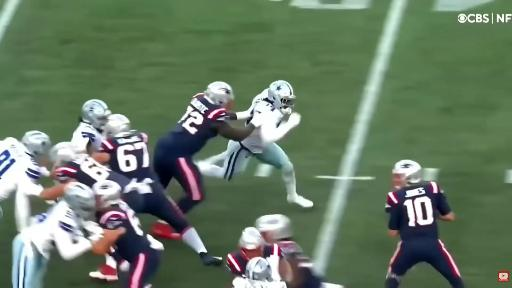Helmet: (63, 182, 95, 219), (255, 215, 292, 239), (82, 100, 111, 129), (393, 160, 421, 188), (268, 80, 295, 109), (93, 180, 121, 207), (22, 131, 51, 155), (50, 142, 79, 165), (205, 82, 234, 105), (246, 257, 273, 281), (239, 227, 264, 250), (104, 114, 131, 135)
Jersey: (55, 155, 143, 211), (159, 94, 229, 157), (387, 182, 450, 241), (22, 200, 82, 258), (96, 202, 152, 263), (102, 131, 155, 182), (0, 138, 42, 200), (56, 155, 130, 188), (278, 241, 322, 287), (246, 89, 284, 126), (71, 122, 103, 151), (234, 275, 290, 287), (227, 251, 249, 275)
Player: (93, 115, 222, 265), (198, 80, 313, 207), (154, 82, 263, 213), (386, 160, 463, 287), (12, 182, 103, 287), (93, 180, 160, 287), (51, 143, 150, 209), (255, 215, 343, 287), (0, 131, 51, 231), (227, 227, 290, 280), (71, 100, 111, 152), (233, 258, 286, 287)
